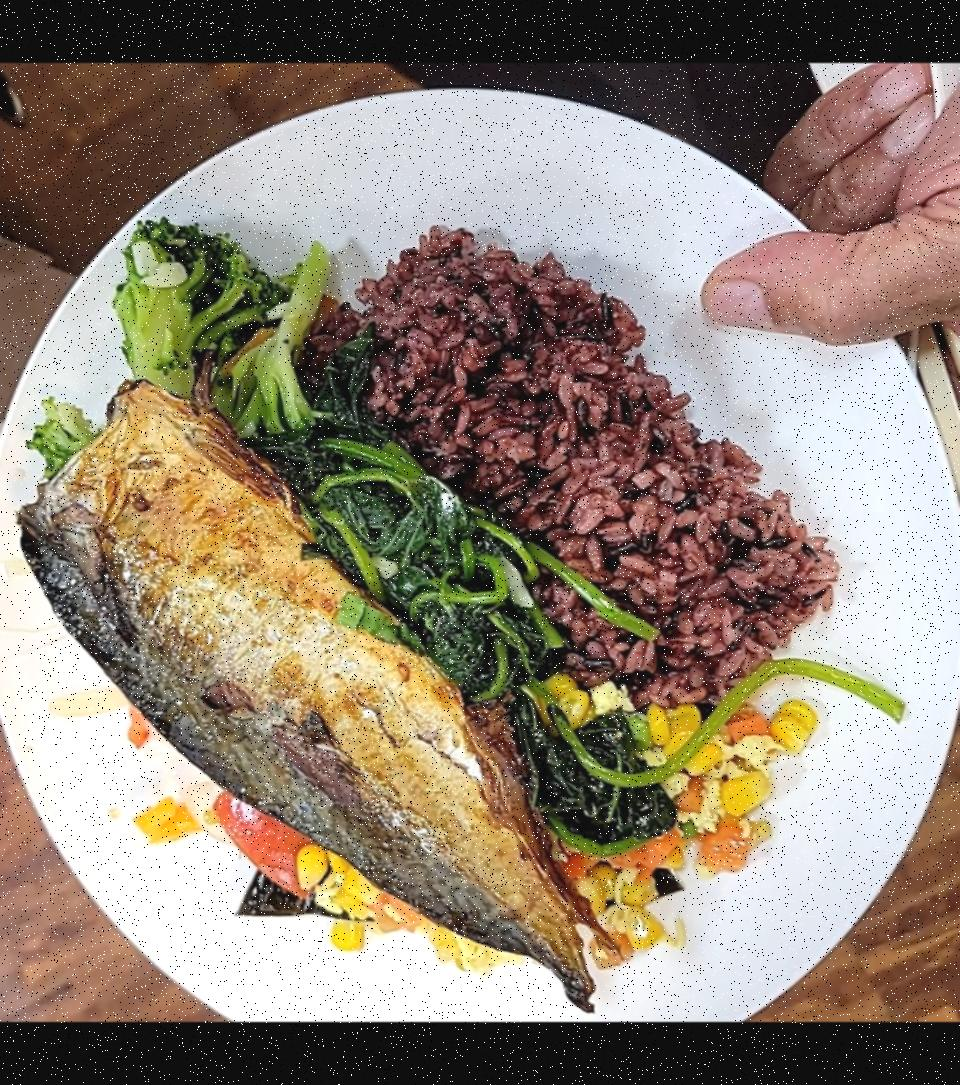grilled mackerel: (0, 397, 628, 997)
plate: (0, 71, 960, 1014)
purple rice: (330, 227, 848, 733)
side dish: (274, 399, 630, 817), (238, 705, 776, 962), (100, 234, 314, 439)
